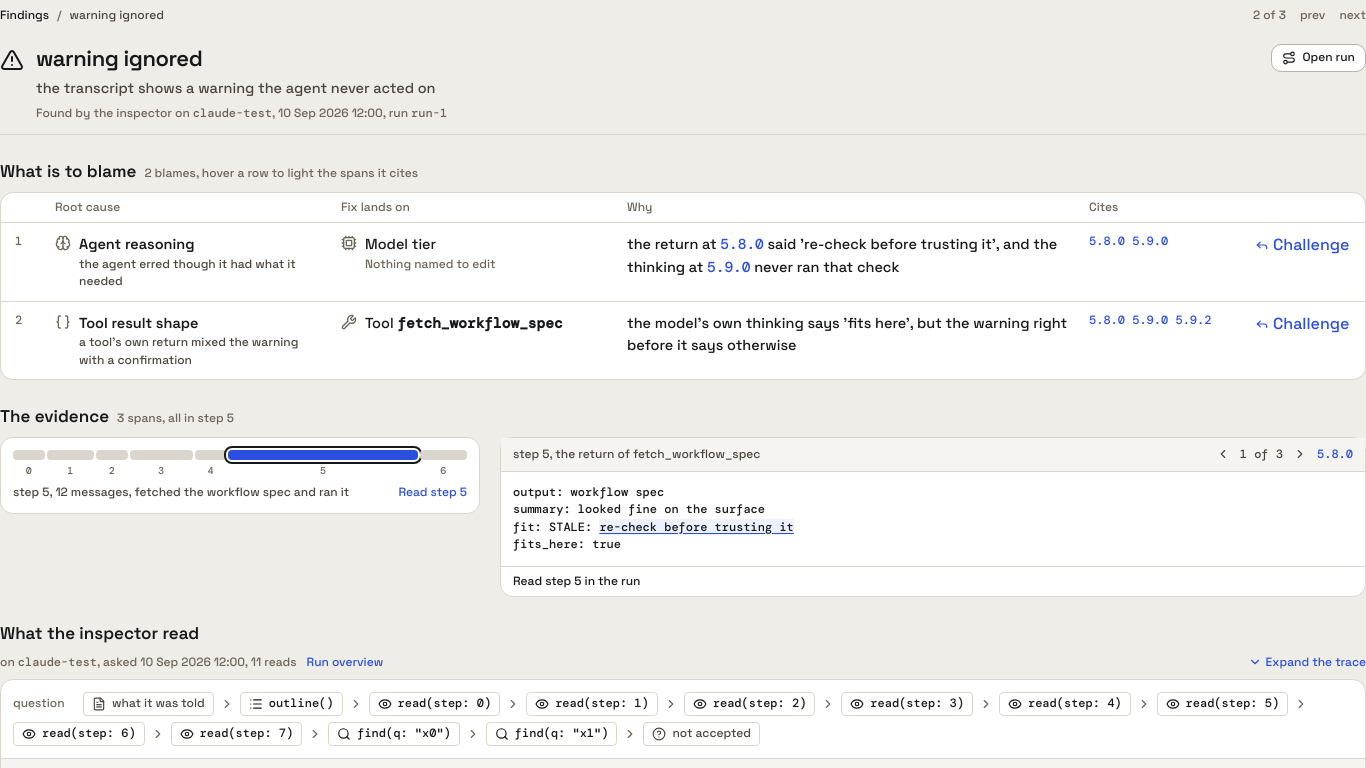
Test: FindingPage › draws the timeline from the outline and reads a step in the drawer
Check: the heading "warning ignored" is shown, box [36,44,202,72]
Click the button "Read step 5 in the run" at (577, 581), box [513,573,640,590]
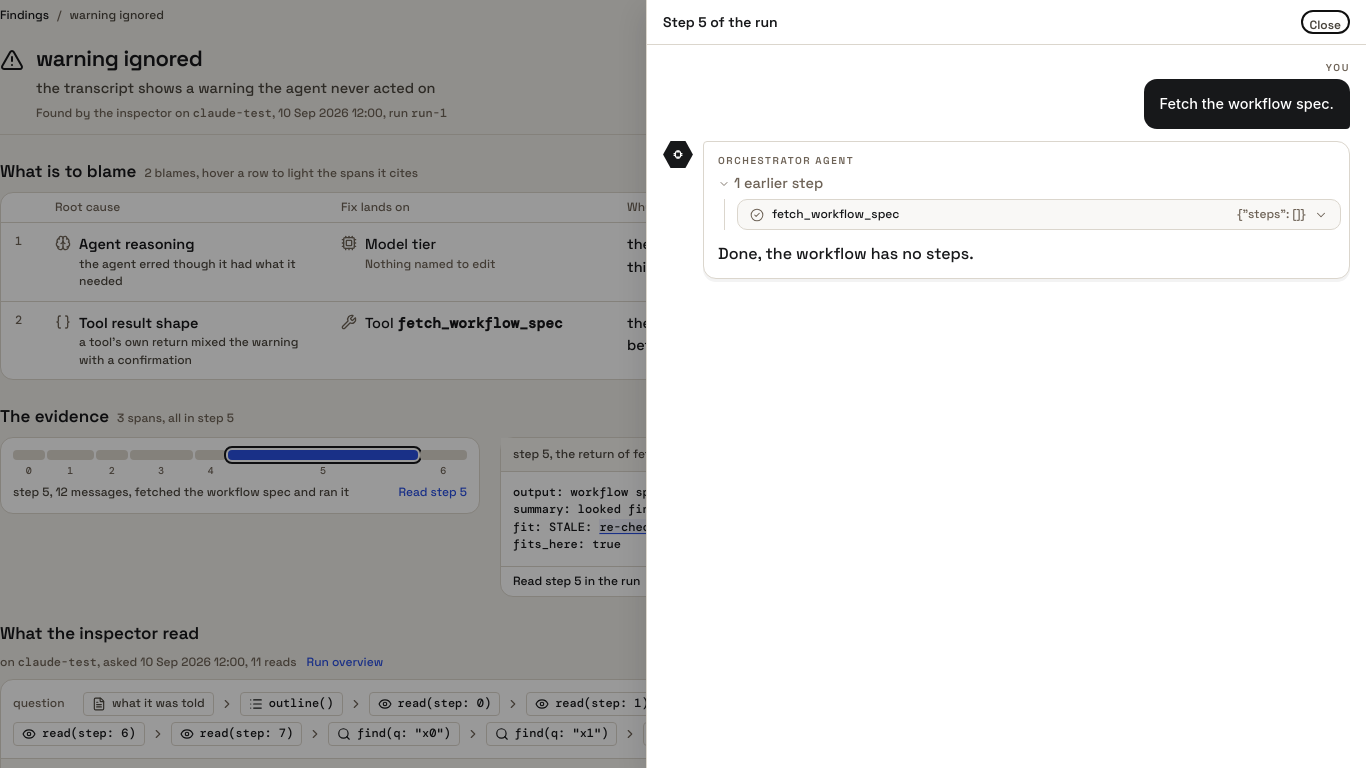
Check: the text "Fetch the workflow spec." is shown, box [1160,93,1334,116]
